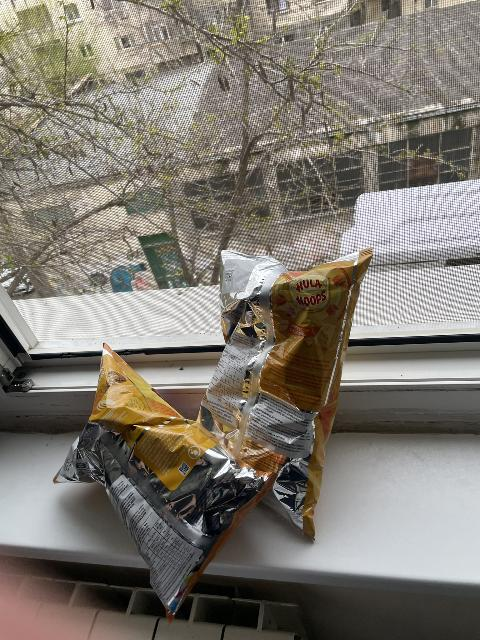Chio Cascaval 125g: (56, 344, 270, 626)
Chio Hula Hoops Cheese 70g: (214, 248, 374, 539)
